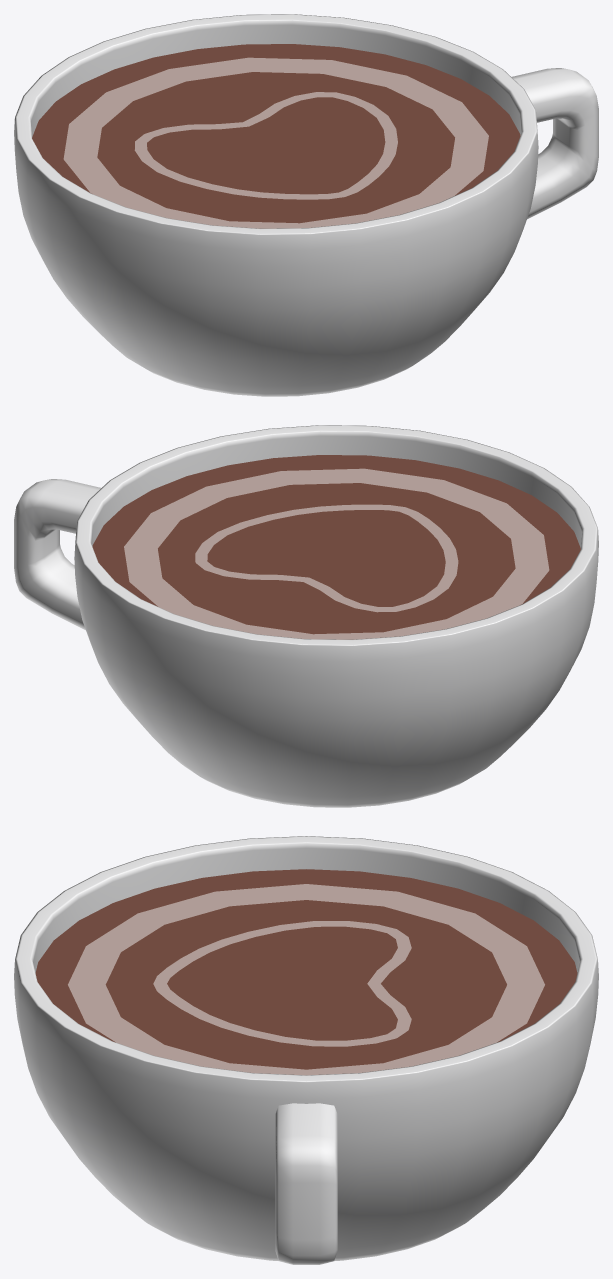
File: Store_5_Cup_Cappuccino_Sign_1.glb
3 views of the same model, one above another, from view 1: azimuth 30°, elevation 25°; view 2: azimuth 150°, elevation 25°; view 3: azimuth 270°, elevation 25° (orthographic). The views are drawn at different scales.
Visible parts, largest first — view 1: Store_5_Cup_Cappuccino_Sign_1; view 2: Store_5_Cup_Cappuccino_Sign_1; view 3: Store_5_Cup_Cappuccino_Sign_1.
Part boxes in pixels (bbox=[...]): Store_5_Cup_Cappuccino_Sign_1: bbox=[14, 14, 598, 396]; Store_5_Cup_Cappuccino_Sign_1: bbox=[14, 425, 598, 807]; Store_5_Cup_Cappuccino_Sign_1: bbox=[14, 836, 598, 1264].
Size of the model in its own units: 4.55 by 1.66 by 3.84.
Materials: 1 (1 with a texture image).
